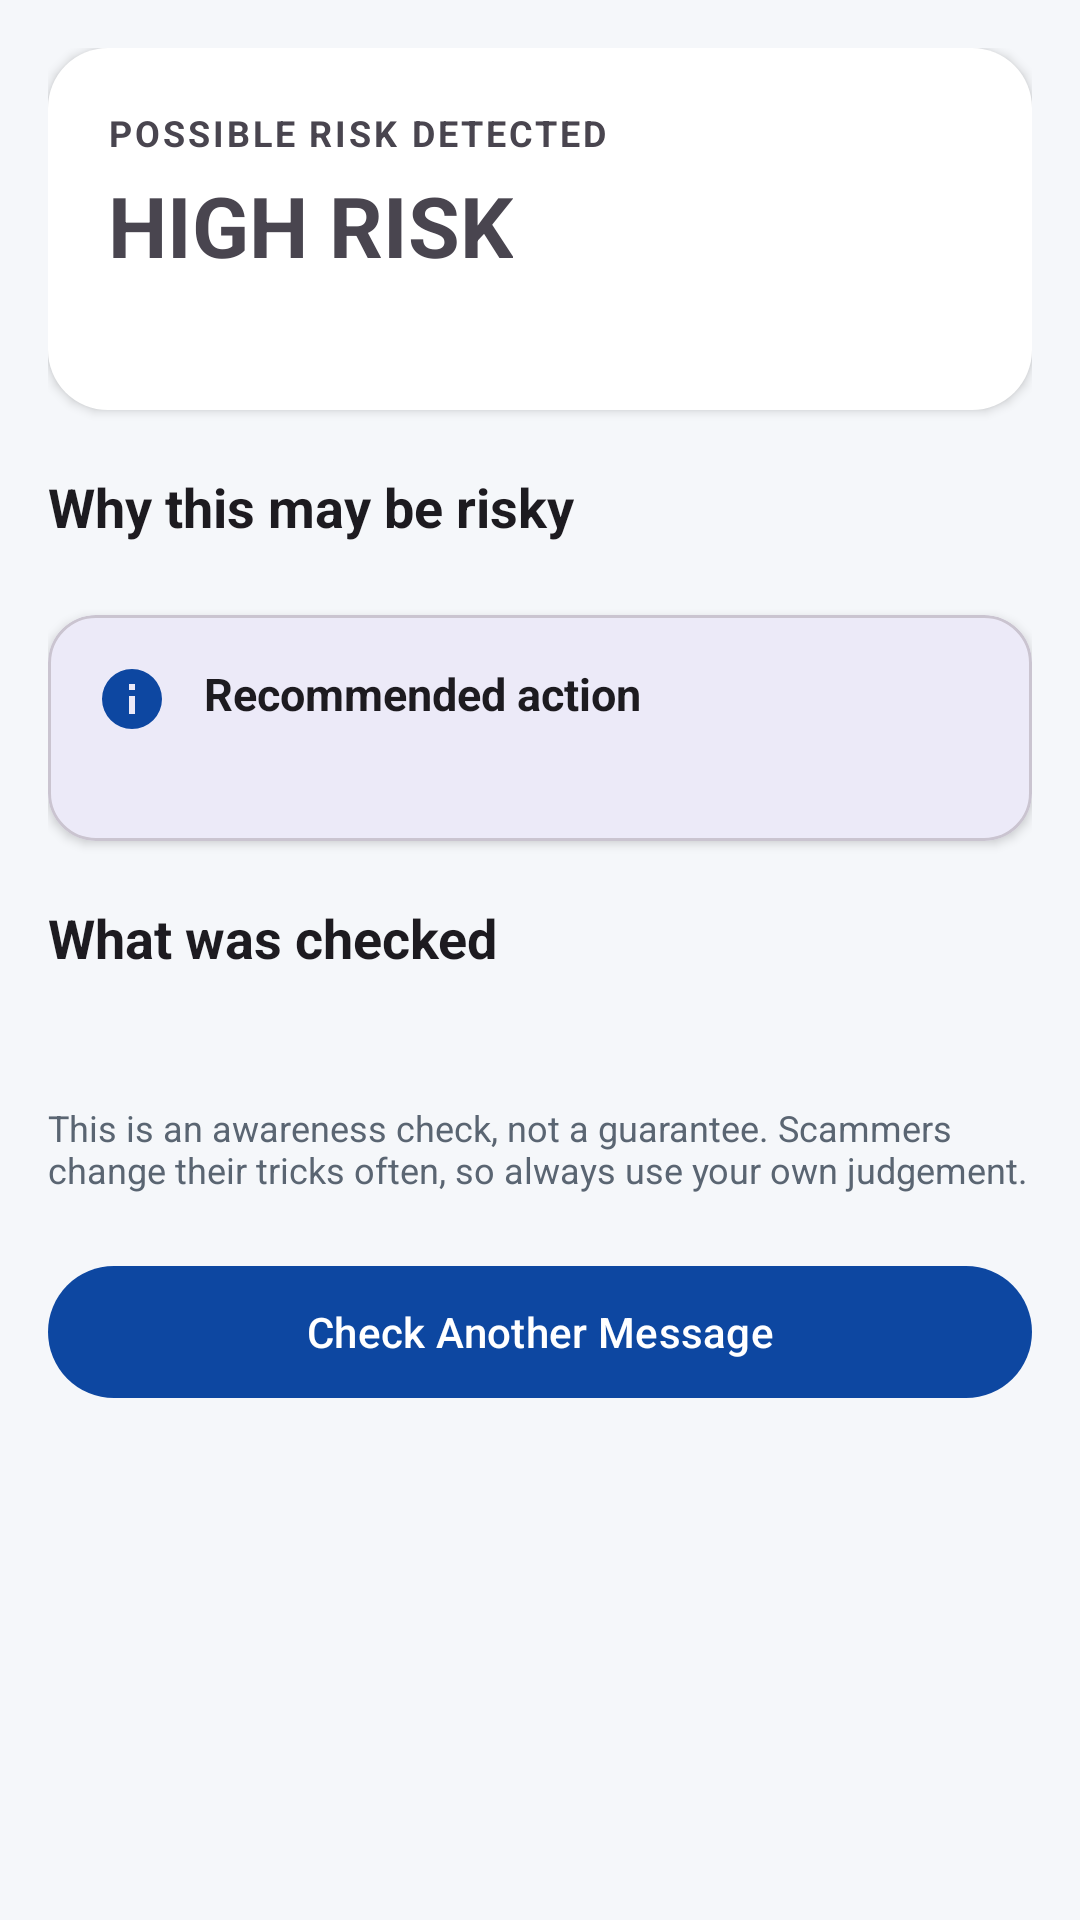

Named icons in this screenshot (1080x1920) and their centers, (x=x, y=y):
info: (x=132, y=699)
